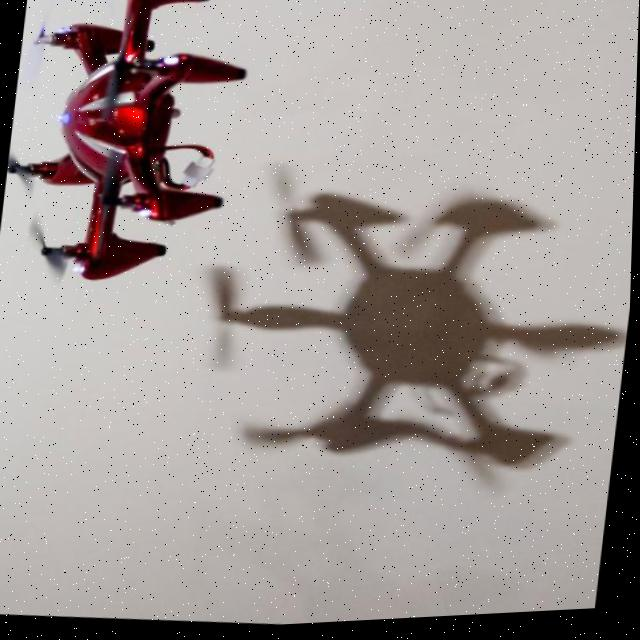drones: (0, 0, 321, 323)
